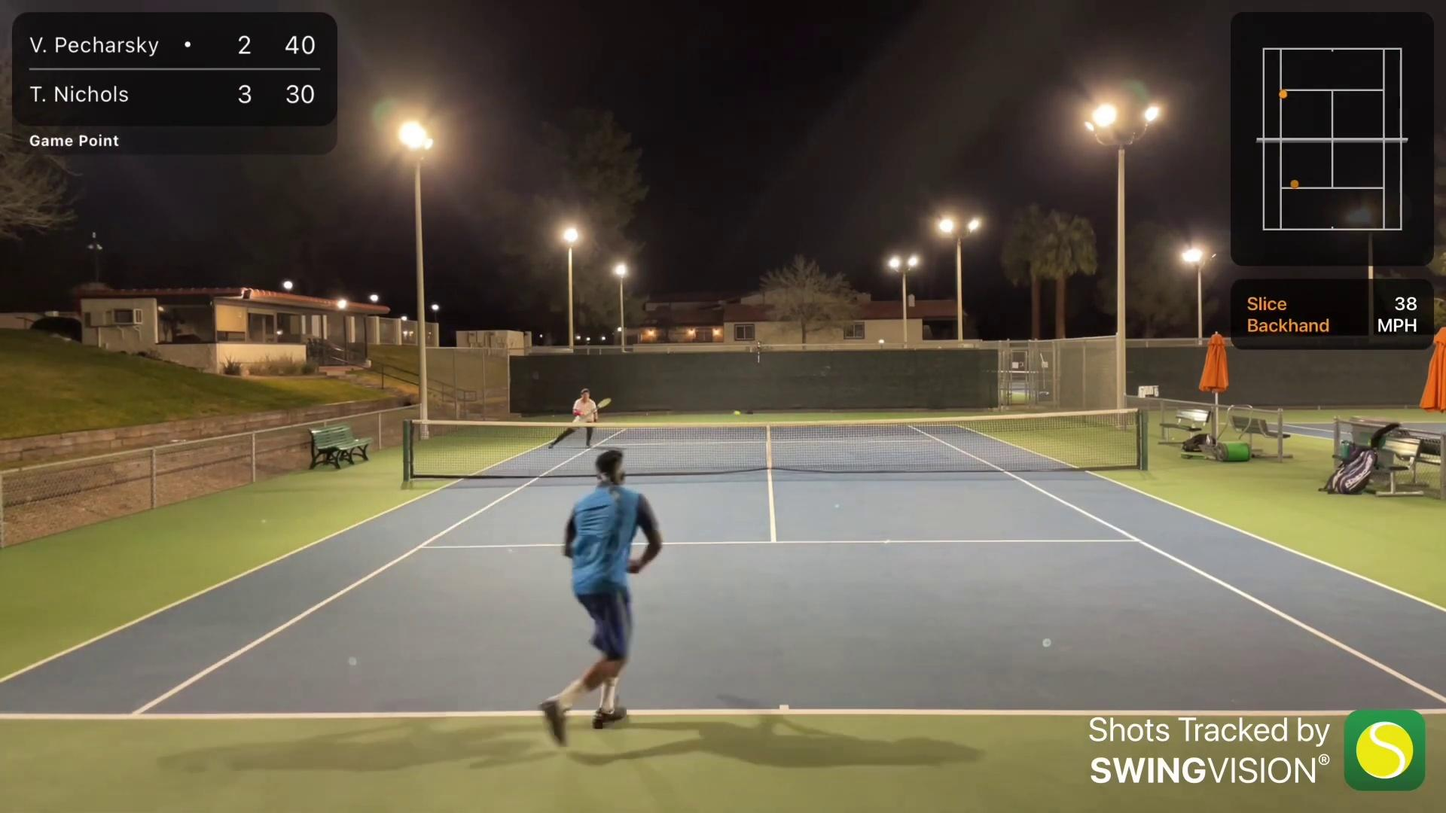ball: (732, 406, 743, 420)
